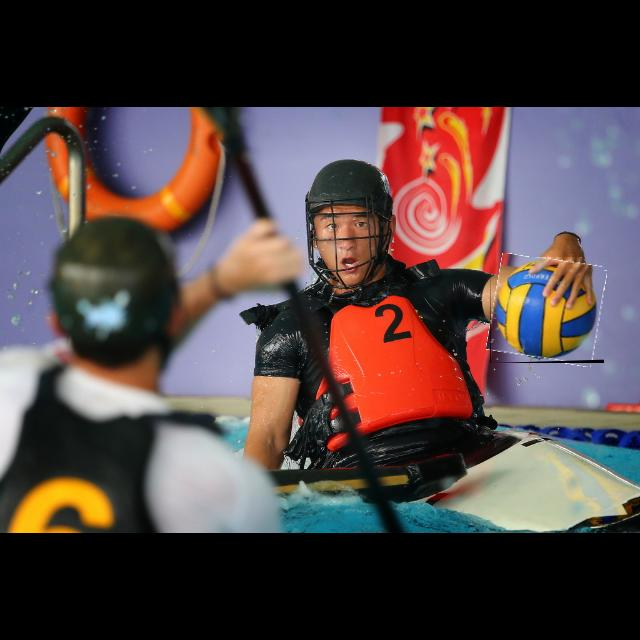Football: (490, 257, 604, 363)
